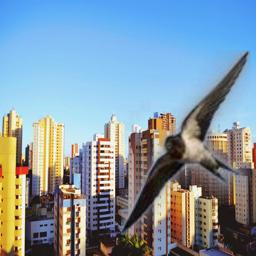Swallow: (121, 50, 251, 235)
